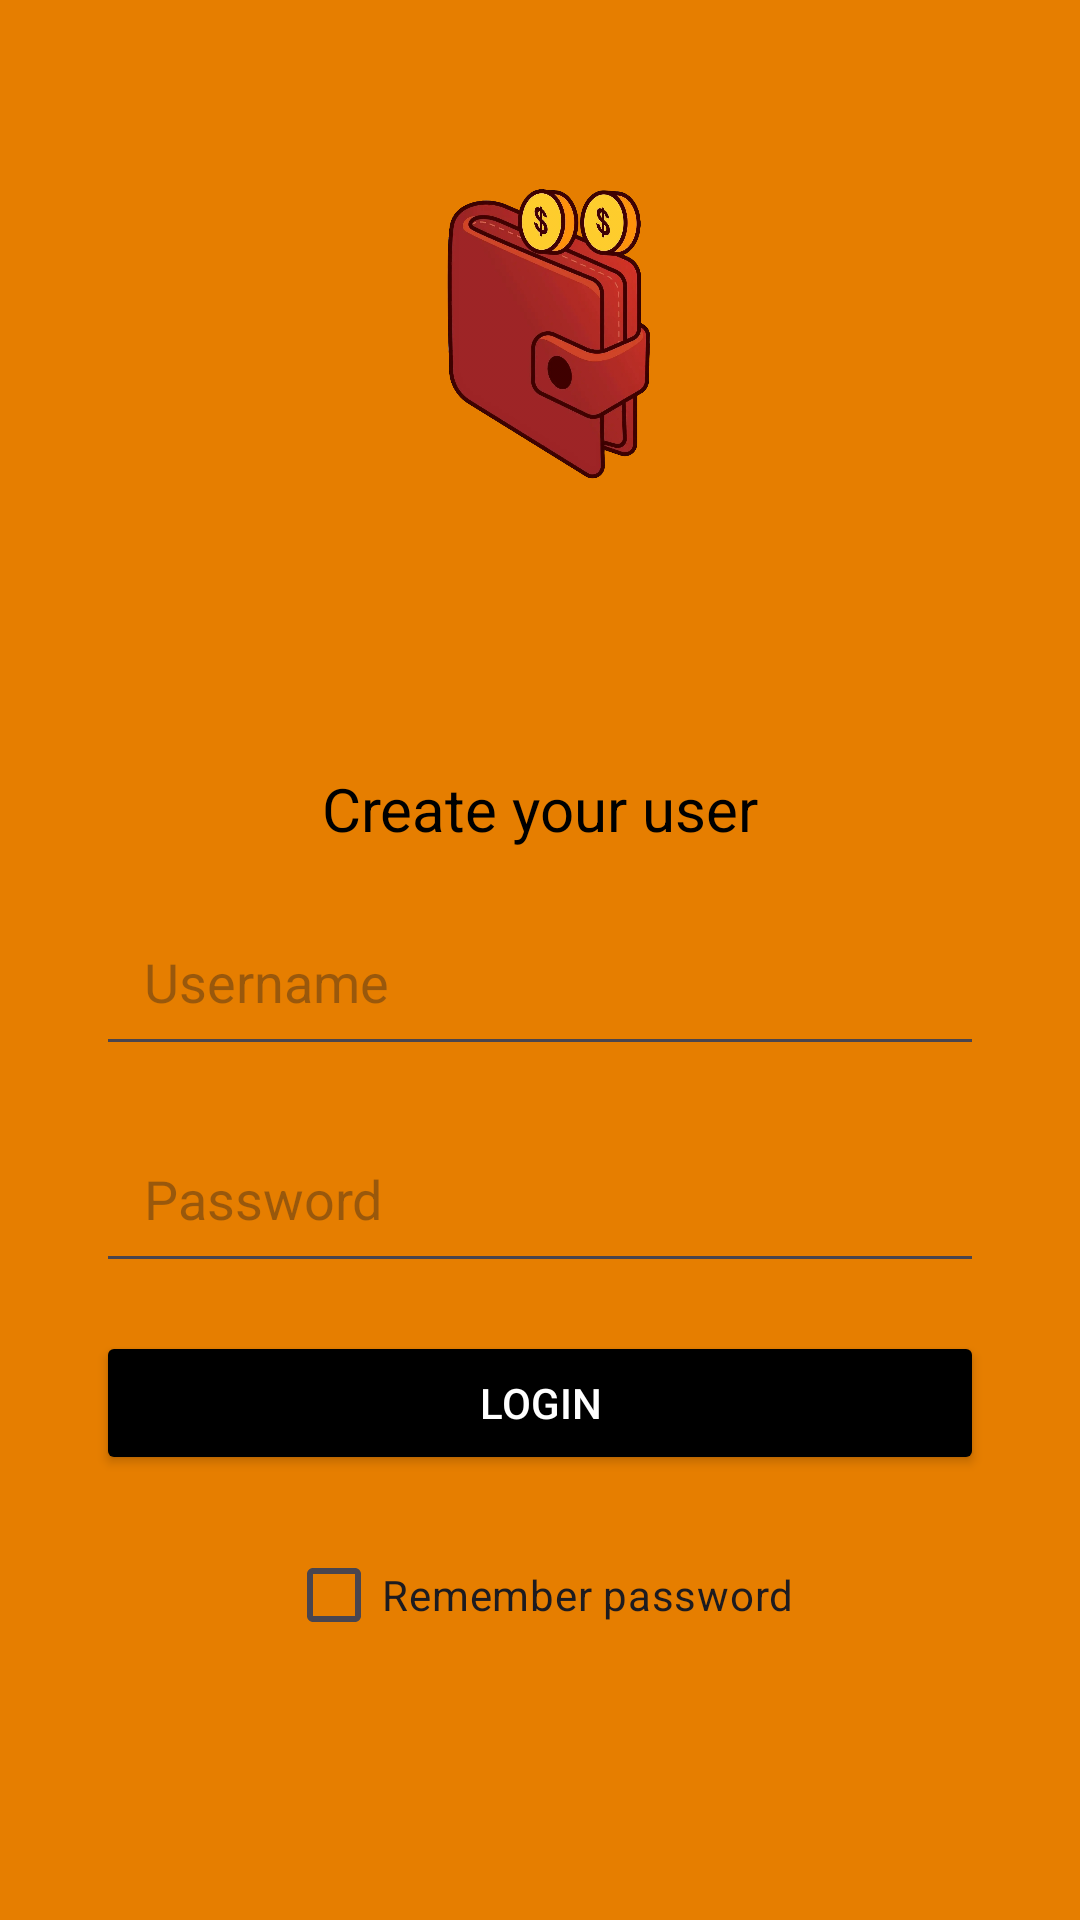

Icons on this 1080w x 1920h Android screen, each with its box as Rect(x1, y1, x2, y2):
wallet: Rect(447, 189, 650, 479)
